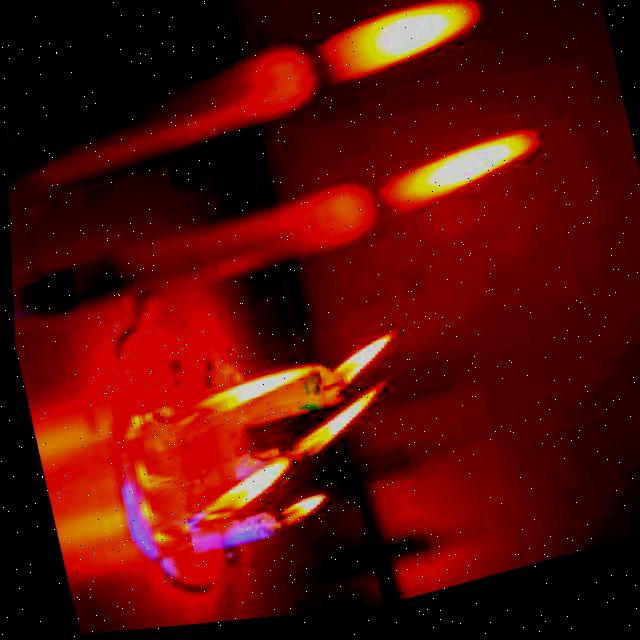Fire: (340, 129, 555, 240), (310, 0, 496, 95), (244, 396, 406, 474), (183, 360, 319, 424), (185, 467, 290, 531), (313, 336, 415, 396), (264, 489, 328, 539)
